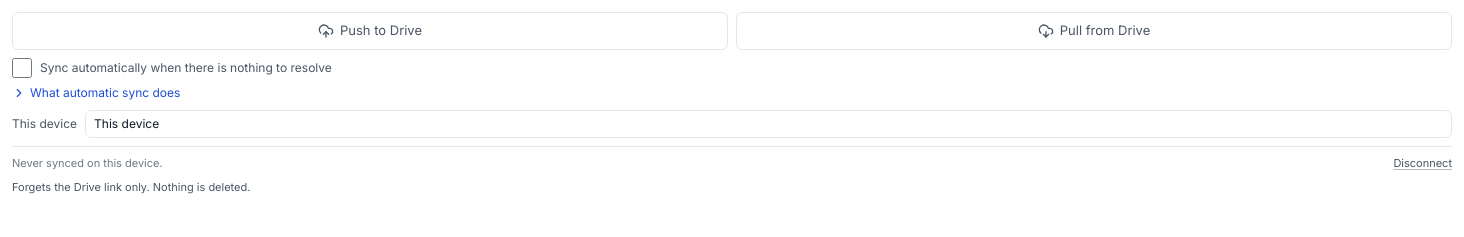
it: DriveSyncControls › tells the user to push from another device first when Drive has no snapshots
Click the button "Pull from Drive" at (1094, 31), box [736,12,1452,50]
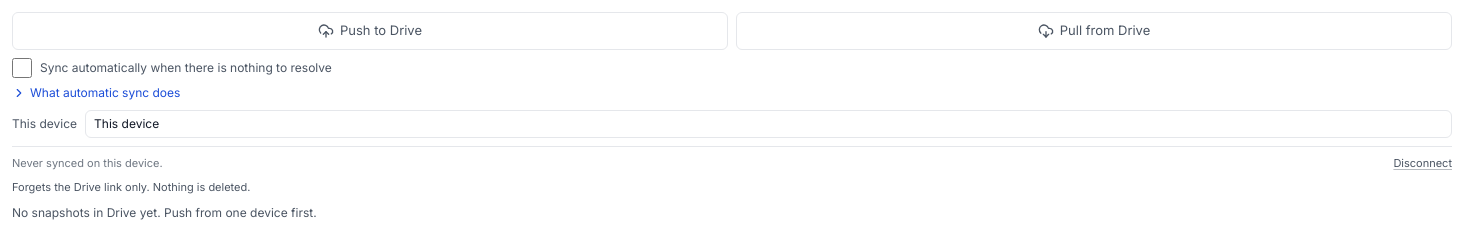
expect the text "No snapshots in Drive yet. Push from one device first." is shown: met, box [12,204,317,220]
